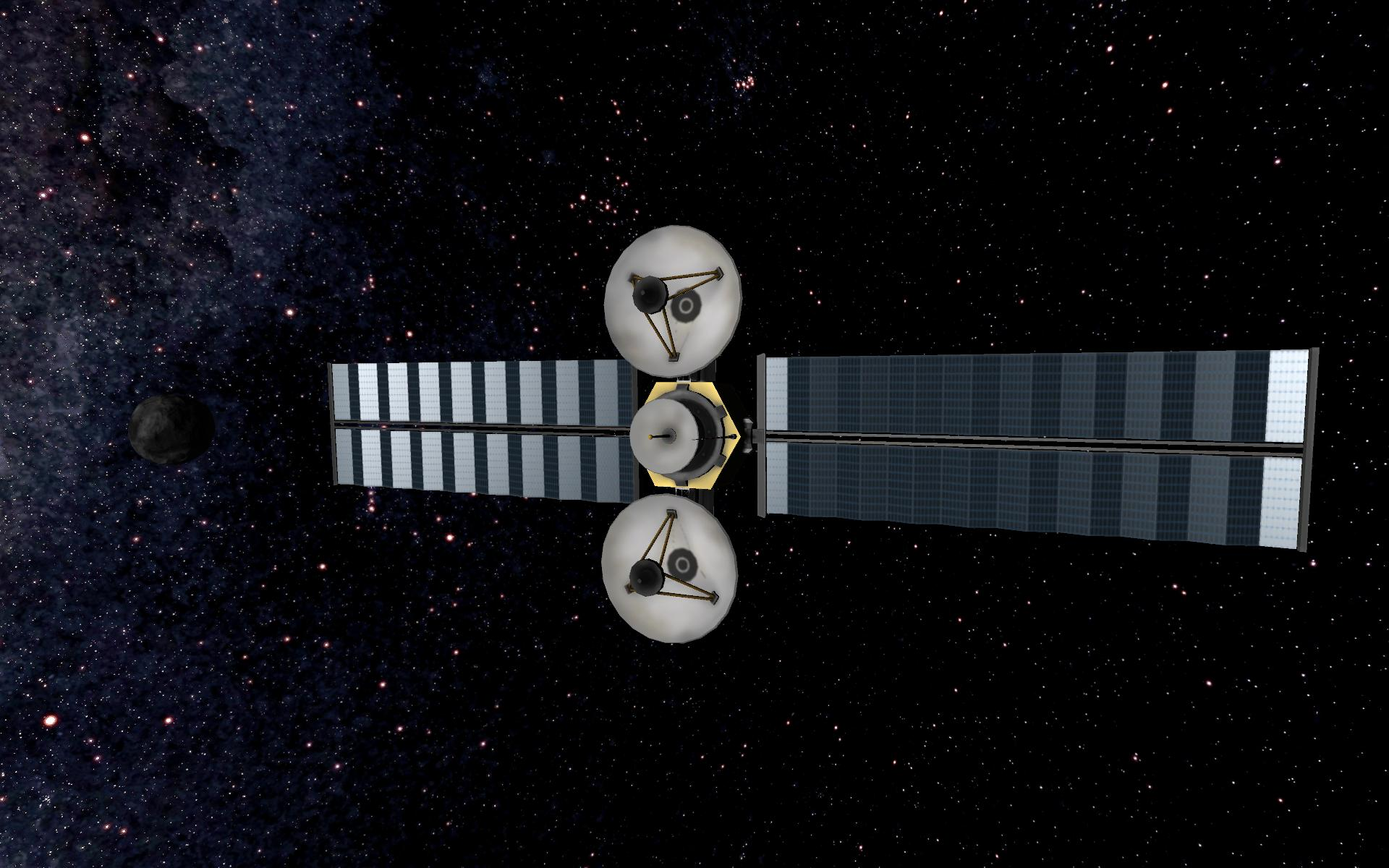antenna: (600, 222, 747, 380), (598, 491, 742, 647), (626, 396, 700, 476), (689, 432, 738, 442)
solar: (752, 344, 1324, 557), (323, 357, 641, 506)
